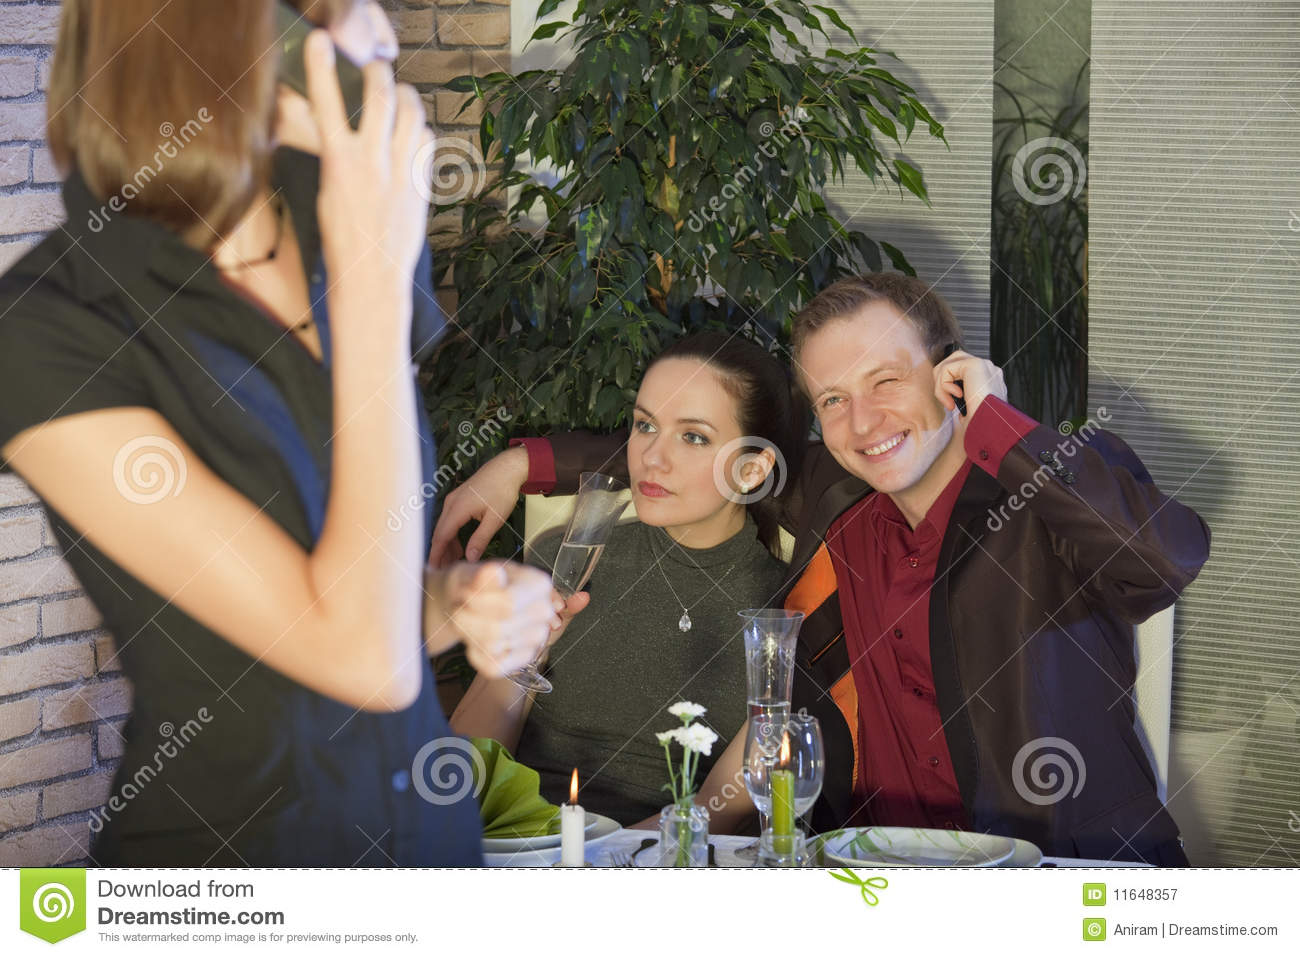phone: (940, 345, 979, 428)
talk: (808, 335, 1013, 483)
